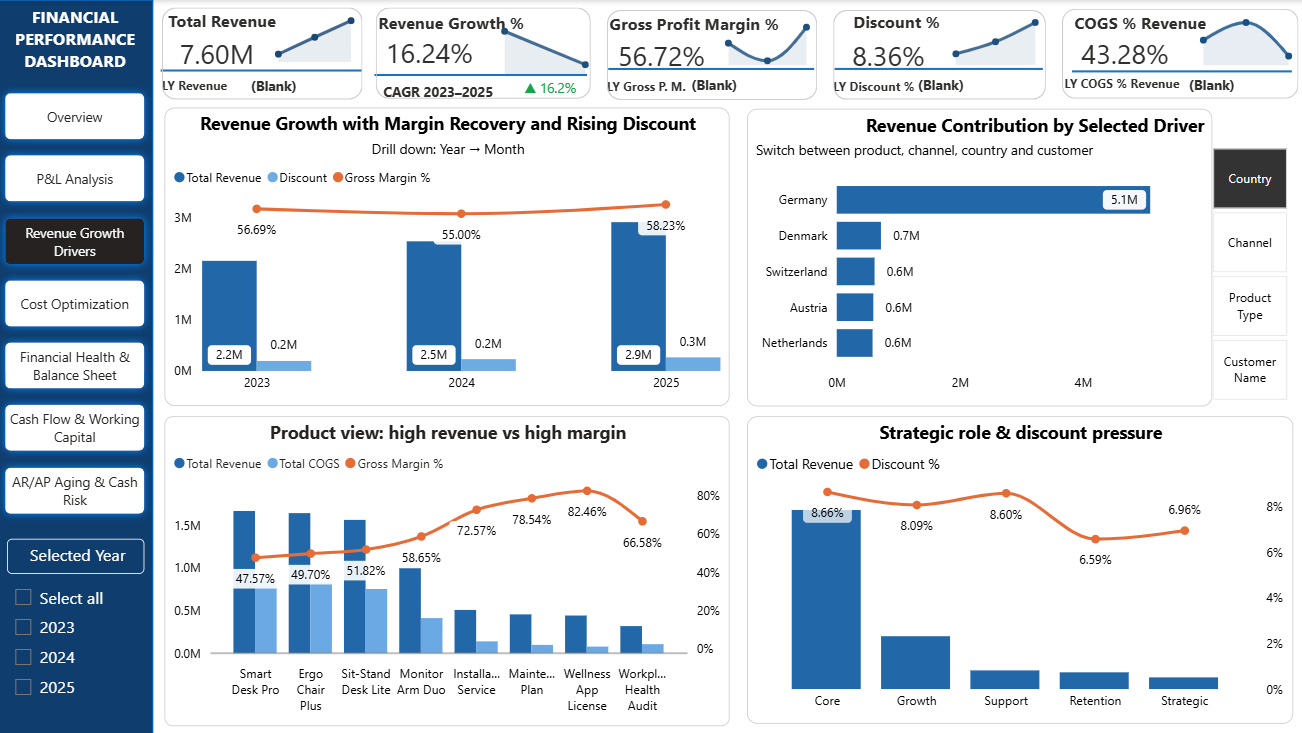

Layout of this report page (visuals, bound fields, positions):
{"tool":"powerbi","page":{"name":"Revenue Growth Drivers","canvas":[1280,720],"ordinal":2},"visuals":[{"type":"shape","box":[0,0,152.9,720.2],"z":0,"group":"g6"},{"type":"group","id":"g1","title":"Group 8","box":[160.4,2.7,199.2,100],"z":0},{"type":"textbox","box":[0,0,152.9,83.2],"z":1000,"group":"g6"},{"type":"group","id":"g2","title":"Group 8","box":[368.6,6.1,218.2,96.9],"z":1000},{"type":"card","fields":{"Values":["_Measures.Revenue Growth %"]},"box":[370.4,35.3,102.7,34.2],"z":1000,"group":"g11"},{"type":"card","fields":{"Values":["_Measures.Total Revenue"]},"box":[160.6,36.5,105.4,32.8],"z":1000,"group":"g7"},{"type":"card","fields":{"Values":["_Measures.COGS % Revenue"]},"box":[1044.1,37.9,113.9,32],"z":1000,"group":"g10"},{"type":"card","fields":{"Values":["_Measures.Gross Margin %"]},"box":[594.5,38.8,106.7,32],"z":1000,"group":"g8"},{"type":"card","fields":{"Values":["_Measures.Discount %"]},"box":[815.6,39.1,108,31.9],"z":1000,"group":"g9"},{"type":"textbox","box":[162.4,4.3,171.2,40.4],"z":2000,"group":"g7"},{"type":"group","id":"g3","title":"Group 8","box":[594.3,4.9,207.9,100.3],"z":2000},{"type":"textbox","box":[832.8,4.9,126.9,36.2],"z":2000,"group":"g9"},{"type":"textbox","box":[1049.4,5.7,192,35],"z":2000,"group":"g10"},{"type":"textbox","box":[368.6,6.1,168.7,35.5],"z":2000,"group":"g11"},{"type":"textbox","box":[594.3,7.3,179.8,33],"z":2000,"group":"g8"},{"type":"pageNavigator","box":[0,83.2,152.9,431.7],"z":2000,"group":"g6"},{"type":"group","id":"g4","title":"Group 8","box":[815.6,4.9,210.3,100.3],"z":3000},{"type":"textbox","box":[9.8,527,134.5,34.2],"z":3000,"group":"g6"},{"type":"lineChart","fields":{"Category":["Dim_Date.Year"],"Y":["_Measures.Total Revenue"]},"box":[260.2,2.7,96.1,58.3],"z":4000,"group":"g7"},{"type":"lineChart","fields":{"Category":["Dim_Date.Year"],"Y":["_Measures.Gross Margin %"]},"box":[700.3,4.9,101.4,59.1],"z":4000,"group":"g8"},{"type":"group","id":"g5","title":"Group 8","box":[1042,5,231.1,99],"z":4000},{"type":"lineChart","fields":{"Category":["Dim_Date.Year"],"Y":["_Measures.COGS % Revenue"]},"box":[1165.9,5,108.4,59.1],"z":4000,"group":"g10"},{"type":"lineChart","fields":{"Category":["Dim_Date.Year"],"Y":["_Measures.Discount %"]},"box":[922.7,5.3,102.6,58.9],"z":4000,"group":"g9"},{"type":"lineChart","fields":{"Category":["Dim_Date.Year"],"Y":["_Measures.Revenue Growth %"]},"box":[482.9,13.3,103.9,59.9],"z":4000,"group":"g11"},{"type":"slicer","fields":{"Values":["Dim_Date.Year"]},"box":[9.8,569.8,134.5,150.4],"z":4000,"group":"g6"},{"type":"lineClusteredColumnComboChart","title":"Product view: high revenue vs high margin","fields":{"Category":["Dim_Product.Product Name"],"Y":["_Measures.Total Revenue","_Measures.Total COGS"],"Y2":["_Measures.Gross Margin %"]},"box":[164.4,407.6,553,303],"z":5000},{"type":"textbox","box":[1043.9,67.6,124.5,36.4],"z":6000,"group":"g10"},{"type":"textbox","box":[161.7,69.1,115.1,32.8],"z":6000,"group":"g7"},{"type":"textbox","box":[597.1,70,95.9,35.2],"z":6000,"group":"g8"},{"type":"textbox","box":[818.2,70.1,97,35.1],"z":6000,"group":"g9"},{"type":"lineClusteredColumnComboChart","title":"Revenue Growth with Margin Recovery and Rising Discount","fields":{"Category":["Dim_Date.Year-Month.Variation.Date Hierarchy.Year","Dim_Date.Year-Month.Variation.Date Hierarchy.Quarter","Dim_Date.Year-Month.Variation.Date Hierarchy.Month"],"Y":["_Measures.Total Revenue","_Measures.Discount"],"Y2":["_Measures.Gross Margin %"]},"box":[164.4,104.6,553,292.1],"z":6000},{"type":"slicer","title":"View revenue by","fields":{"Values":["Parameter.Parameter"]},"box":[1169,137,111.3,260.5],"z":7000},{"type":"card","fields":{"Values":["_Measures.LY Gross Margin %"]},"box":[668.4,67.4,65.3,28.9],"z":8000,"group":"g8"},{"type":"card","fields":{"Values":["_Measures.LY Discount %"]},"box":[890.4,67.6,66.1,28.8],"z":8000,"group":"g9"},{"type":"card","fields":{"Values":["_Measures.LY COGS % Revenue"]},"box":[1143.7,67.6,90,30.2],"z":8000,"group":"g10"},{"type":"card","fields":{"Values":["_Measures.LY Revenue"]},"box":[232.3,68.2,76.4,28.4],"z":8000,"group":"g7"},{"type":"card","fields":{"Values":["_Measures.Revenue Growth LY"]},"box":[370.7,74,122,29],"z":8000,"group":"g11"},{"type":"clusteredBarChart","title":"Revenue Contribution by Selected Driver","fields":{"Category":["Dim_Country.Country"],"Y":["_Measures.Total Revenue"]},"box":[733.7,106.4,454.9,291],"z":8000},{"type":"card","fields":{"Values":["_Measures.COGS % Revenue YoY Display"]},"box":[1208.8,65.8,63.6,33],"z":9000,"group":"g5"},{"type":"card","fields":{"Values":["_Measures.Discount % Display"]},"box":[950.6,66,67.5,34.2],"z":9000,"group":"g4"},{"type":"card","fields":{"Values":["_Measures.Gross Margin Display"]},"box":[728.1,66.4,67.2,34.7],"z":9000,"group":"g3"},{"type":"card","fields":{"Values":["_Measures.Revenue LY Display"]},"box":[290.9,67,68.7,35.7],"z":9000,"group":"g1"},{"type":"lineClusteredColumnComboChart","title":"Strategic role & discount pressure","fields":{"Category":["Dim_Product.Strategic Role"],"Y":["_Measures.Total Revenue"],"Y2":["_Measures.Discount %"]},"box":[733.7,407.2,534.4,300.8],"z":9000},{"type":"group","id":"g6","title":"Group 1","box":[0,0,152.9,720.2],"z":10000},{"type":"shape","box":[597.5,60.2,201.4,15.1],"z":10000,"group":"g8"},{"type":"shape","box":[818.7,60.4,203.8,15],"z":10000,"group":"g9"},{"type":"shape","box":[160.4,62.2,197,13.2],"z":10000,"group":"g7"},{"type":"shape","box":[370.3,63.4,207.9,19.6],"z":10000,"group":"g11"},{"type":"shape","box":[1052.4,64.3,215,10.1],"z":10000,"group":"g10"},{"type":"shape","box":[370.7,7.2,210.3,89.3],"z":11000,"group":"g11"},{"type":"shape","box":[161.4,8,196.2,90.1],"z":11000,"group":"g7"},{"type":"shape","box":[1042,9,231.3,88],"z":11000,"group":"g10"},{"type":"shape","box":[596.7,9.4,205.6,88],"z":11000,"group":"g8"},{"type":"shape","box":[817.9,9.8,208,87.7],"z":11000,"group":"g9"},{"type":"group","id":"g7","title":"Group 3","box":[160.4,2.7,197.2,99.2],"z":11004,"group":"g1"},{"type":"group","id":"g8","title":"Group 3","box":[594.3,4.9,208.1,100.3],"z":11004,"group":"g3"},{"type":"group","id":"g9","title":"Group 3","box":[815.6,4.9,210.3,100.3],"z":11004,"group":"g4"},{"type":"group","id":"g10","title":"Group 3","box":[1042,5,231.1,99],"z":11004,"group":"g5"},{"type":"group","id":"g11","title":"Group 3","box":[368.6,6.1,218.2,96.9],"z":11004,"group":"g2"},{"type":"card","fields":{"Values":["_Measures.Revenue Growth Display"]},"box":[501.6,74,74.6,27.8],"z":11500,"group":"g11"}]}

Visuals, with their boxes in screenshot pixels (x1, y1, x2, y2), scaled from the page's 1280x720 canvas onto the 1302x733 screenshot:
shape: 0:0:156:732
"Group 8" group: 163:3:366:105
textbox: 0:0:156:85
"Group 8" group: 375:6:597:105
card - _Measures.Revenue Growth %: 377:36:481:71
card - _Measures.Total Revenue: 163:37:271:71
card - _Measures.COGS % Revenue: 1062:39:1178:71
card - _Measures.Gross Margin %: 605:40:713:72
card - _Measures.Discount %: 830:40:939:72
textbox: 165:4:339:46
"Group 8" group: 605:5:816:107
textbox: 847:5:976:42
textbox: 1067:6:1263:41
textbox: 375:6:547:42
textbox: 605:7:787:41
pageNavigator: 0:85:156:524
"Group 8" group: 830:5:1044:107
textbox: 10:537:147:571
lineChart - Dim_Date.Year x _Measures.Total Revenue: 265:3:362:62
lineChart - Dim_Date.Year x _Measures.Gross Margin %: 712:5:815:65
"Group 8" group: 1060:5:1295:106
lineChart - Dim_Date.Year x _Measures.COGS % Revenue: 1186:5:1296:65
lineChart - Dim_Date.Year x _Measures.Discount %: 939:5:1043:65
lineChart - Dim_Date.Year x _Measures.Revenue Growth %: 491:14:597:75
slicer - Dim_Date.Year: 10:580:147:732
"Product view: high revenue vs high margin" lineClusteredColumnComboChart: 167:415:730:723
textbox: 1062:69:1188:106
textbox: 164:70:282:104
textbox: 607:71:705:107
textbox: 832:71:931:107
"Revenue Growth with Margin Recovery and Rising Discount" lineClusteredColumnComboChart: 167:106:730:404
"View revenue by" slicer: 1189:139:1301:405
card - _Measures.LY Gross Margin %: 680:69:746:98
card - _Measures.LY Discount %: 906:69:973:98
card - _Measures.LY COGS % Revenue: 1163:69:1255:100
card - _Measures.LY Revenue: 236:69:314:98
card - _Measures.Revenue Growth LY: 377:75:501:105
"Revenue Contribution by Selected Driver" clusteredBarChart: 746:108:1209:405
card - _Measures.COGS % Revenue YoY Display: 1230:67:1294:101
card - _Measures.Discount % Display: 967:67:1036:102
card - _Measures.Gross Margin Display: 741:68:809:103
card - _Measures.Revenue LY Display: 296:68:366:105
"Strategic role & discount pressure" lineClusteredColumnComboChart: 746:415:1290:721
"Group 1" group: 0:0:156:732
shape: 608:61:813:77
shape: 833:61:1040:77
shape: 163:63:364:77
shape: 377:65:588:84
shape: 1070:65:1289:76
shape: 377:7:591:98
shape: 164:8:364:100
shape: 1060:9:1295:99
shape: 607:10:816:99
shape: 832:10:1044:99
"Group 3" group: 163:3:364:104
"Group 3" group: 605:5:816:107
"Group 3" group: 830:5:1044:107
"Group 3" group: 1060:5:1295:106
"Group 3" group: 375:6:597:105
card - _Measures.Revenue Growth Display: 510:75:586:104
